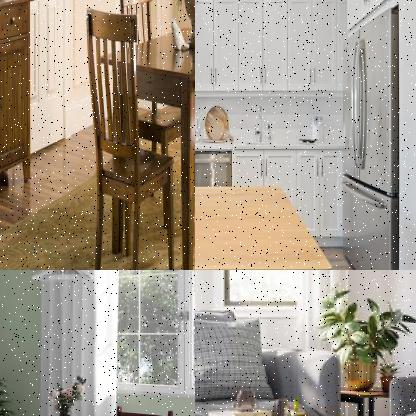table: (95, 15, 194, 269), (195, 181, 335, 269)
